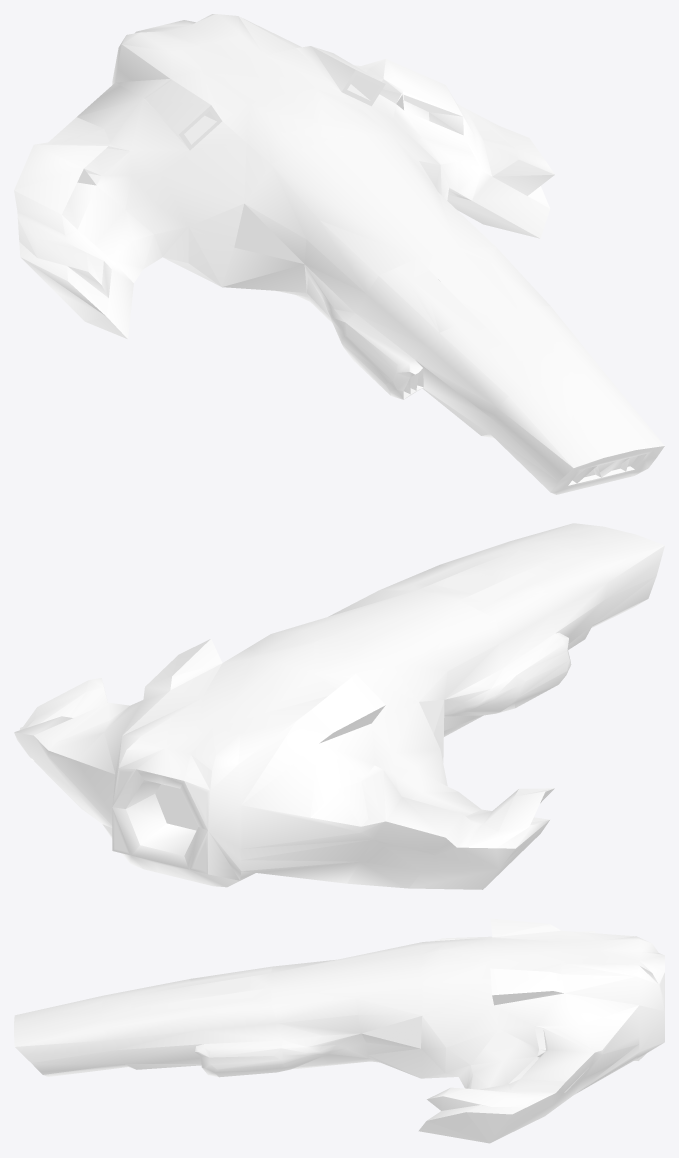
The picture shows the model from 3 angles, top to bottom: view 1: azimuth 30°, elevation 25°; view 2: azimuth 150°, elevation 25°; view 3: azimuth 270°, elevation 25°; orthographic projection. The views are drawn at different scales.
Parts seen in each view (by area): view 1: BODY; view 2: BODY; view 3: BODY.
Part boxes in pixels (box(x1,y1,x2,y2)): BODY: box(14, 14, 664, 494); BODY: box(14, 523, 664, 889); BODY: box(14, 918, 664, 1143).
Size of the model in its own units: 2.95 by 1.05 by 4.74.
1 material, 1 textured.
